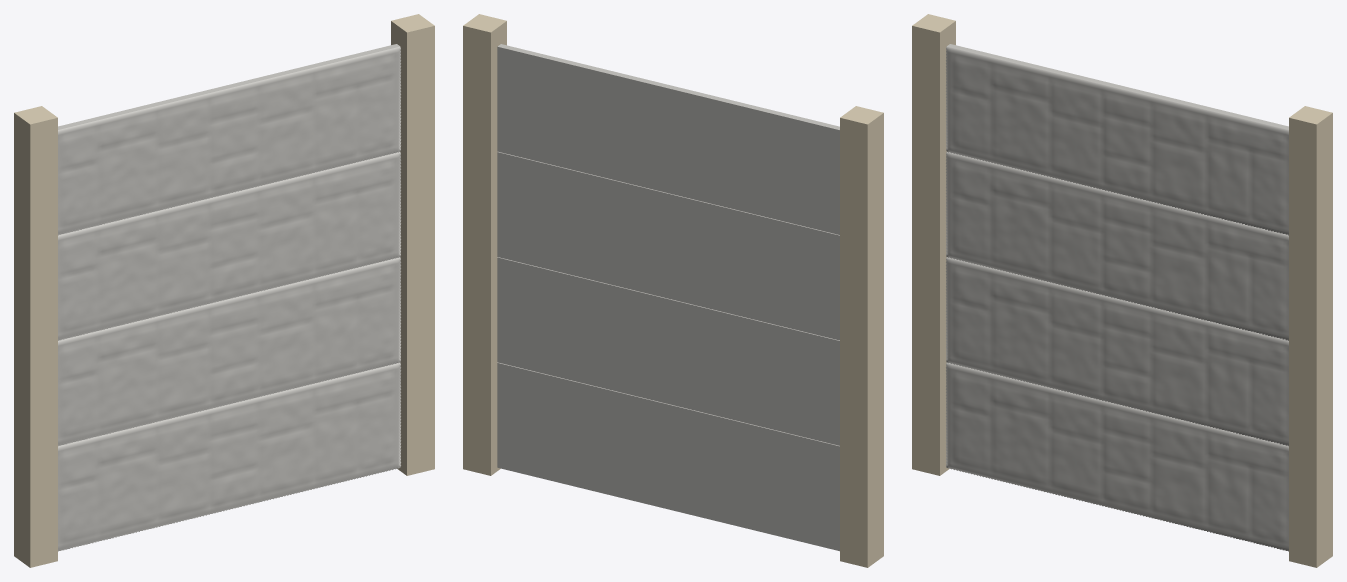
File: terilgan.glb
3 views of the same model, side by side, from view 1: azimuth 30°, elevation 25°; view 2: azimuth 150°, elevation 25°; view 3: azimuth 330°, elevation 25° (orthographic).
Visible parts, largest first — view 1: t3, t1, t0, t2, Ustun, Ustun.001; view 2: t3, t0, t1, t2, Ustun, Ustun.001; view 3: t3, t1, t0, t2, Ustun.001, Ustun.
Boxes of the visible parts, left/top/right/bottom form: t3: left=58, top=44, right=400, bottom=235; t1: left=58, top=257, right=400, bottom=446; t0: left=58, top=362, right=400, bottom=551; t2: left=58, top=152, right=400, bottom=340; Ustun: left=14, top=106, right=57, bottom=567; Ustun.001: left=391, top=14, right=434, bottom=475; t3: left=497, top=44, right=839, bottom=234; t0: left=497, top=362, right=839, bottom=551; t1: left=497, top=257, right=839, bottom=445; t2: left=497, top=151, right=839, bottom=340; Ustun: left=840, top=106, right=883, bottom=567; Ustun.001: left=463, top=14, right=506, bottom=475; t3: left=946, top=44, right=1288, bottom=235; t1: left=946, top=257, right=1288, bottom=446; t0: left=946, top=362, right=1288, bottom=551; t2: left=946, top=152, right=1288, bottom=340; Ustun.001: left=1289, top=106, right=1332, bottom=567; Ustun: left=912, top=14, right=955, bottom=475.
Size of the model in its own units: 2.32 by 2.43 by 0.16.
